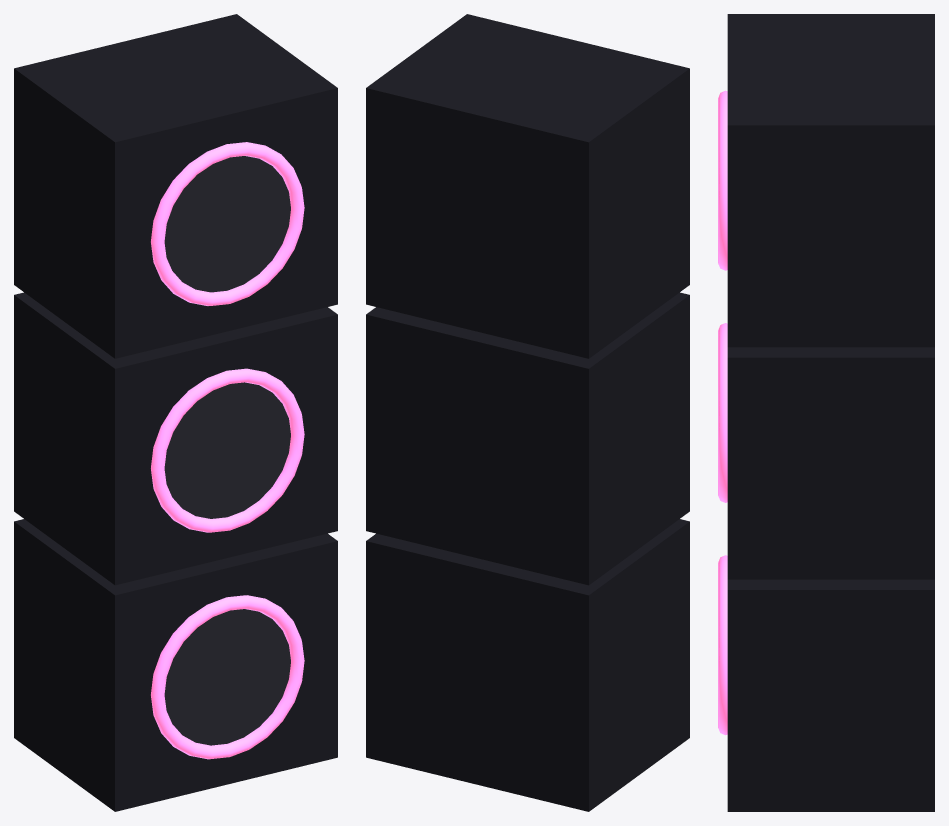
The model's file is SpeakerStack.glb.
3 renders of one model, left to right at view 1: azimuth 30°, elevation 25°; view 2: azimuth 150°, elevation 25°; view 3: azimuth 270°, elevation 25°, orthographic. The views are drawn at different scales.
Visible parts, largest first — view 1: SpeakerStack; view 2: SpeakerStack; view 3: SpeakerStack.
Boxes of the visible parts, <box> form: SpeakerStack: <box>14,14,337,811</box>; SpeakerStack: <box>366,14,689,811</box>; SpeakerStack: <box>718,14,934,811</box>.
Size of the model in its own units: 0.7 by 2.01 by 0.575.
